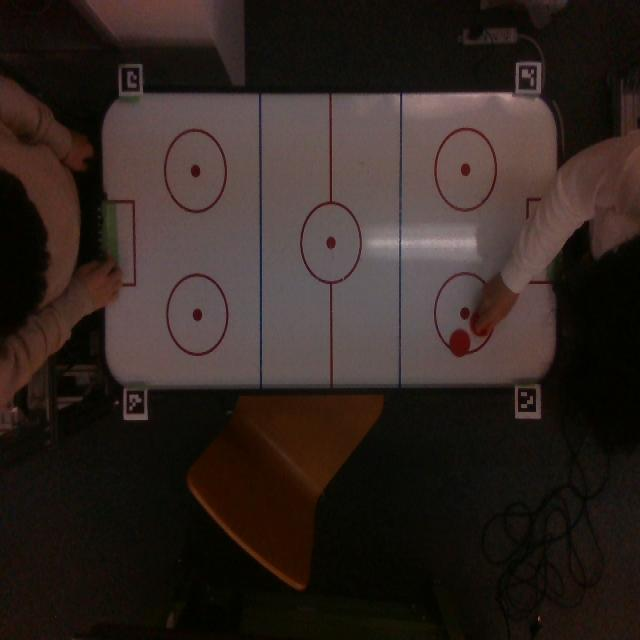puck: (450, 328, 470, 357)
